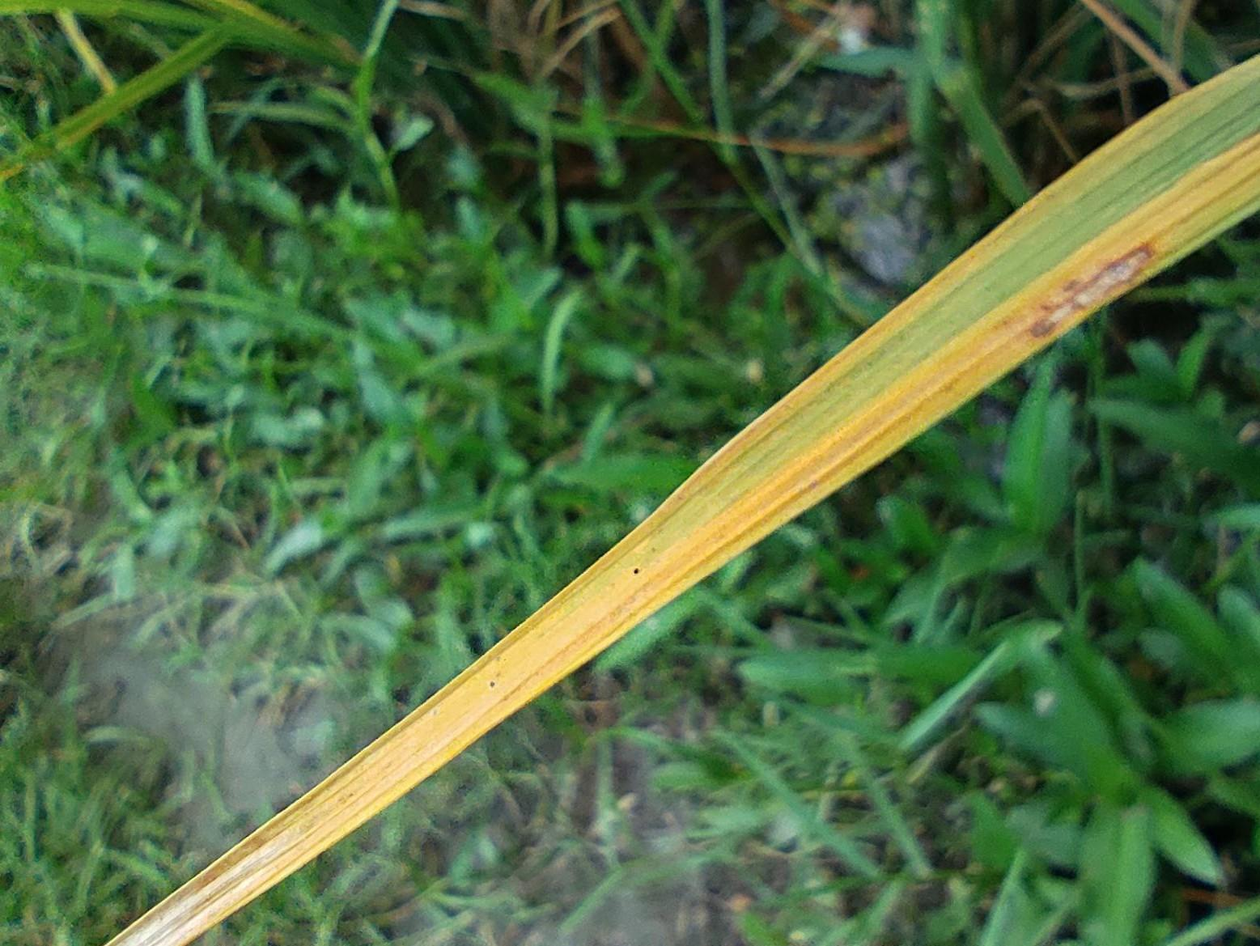LEAF: (107, 57, 1259, 945)
LEAF BLAST: (1032, 248, 1151, 337)
